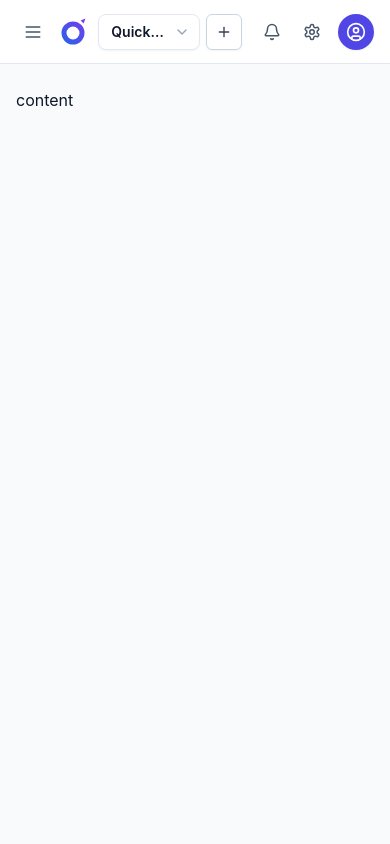
AppShell navigation › gives small screens a navigation drawer that opens and closes
Click the button named "Open navigation" at (33, 32), box x1=16 y1=14 x2=50 y2=50
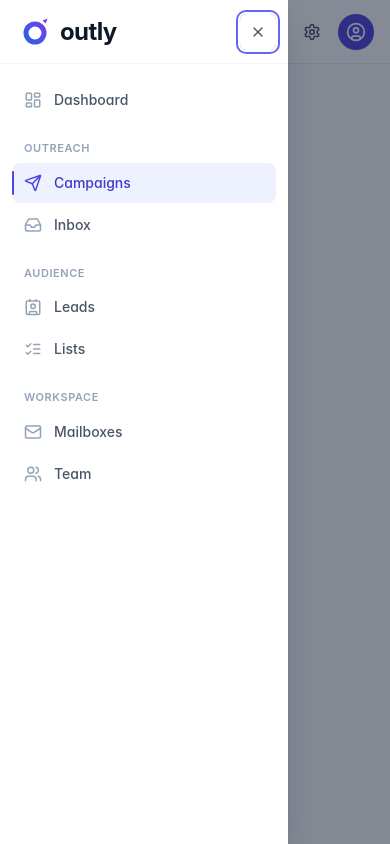
Press Escape
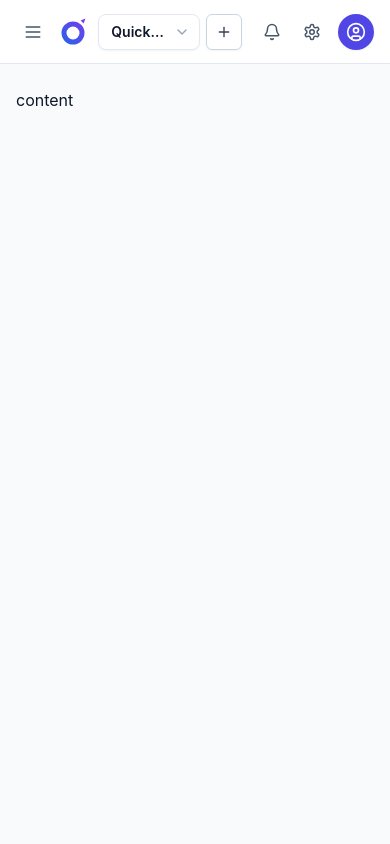
Result: the button "Navigation" is gone
